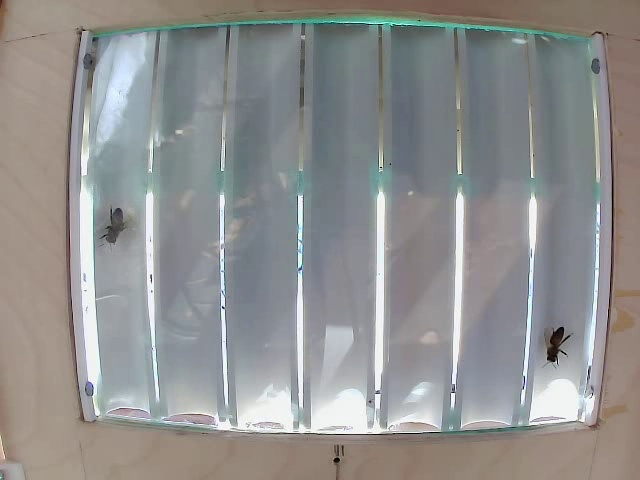bee: (102, 199, 135, 247), (538, 319, 566, 355)
